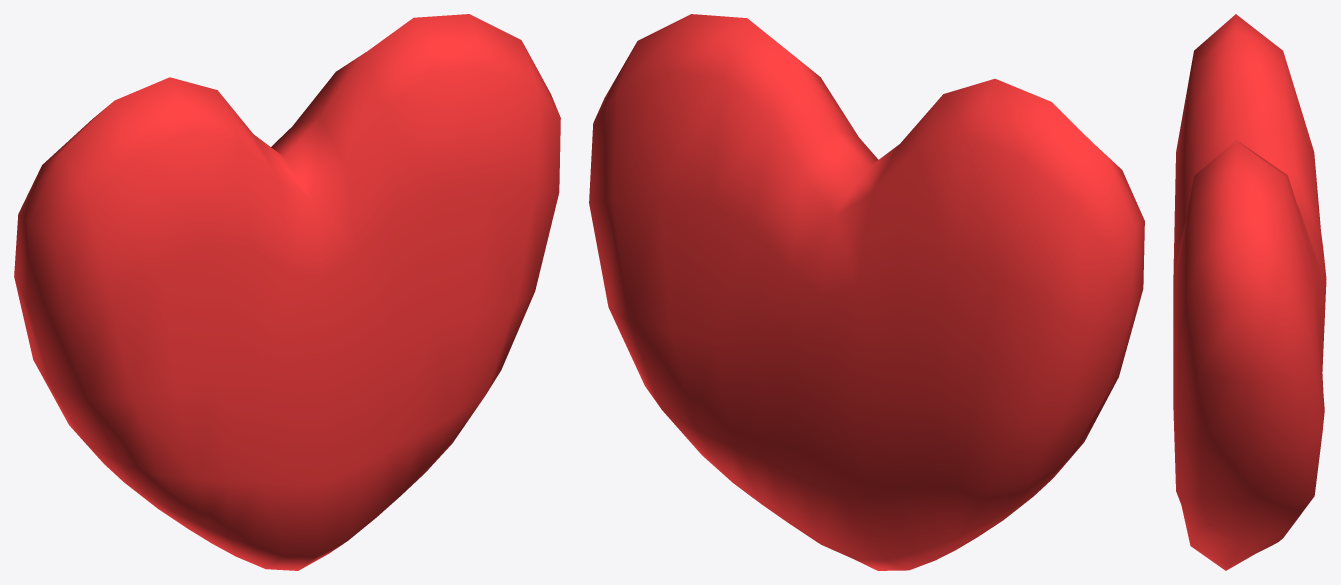
Rendered from Heart.glb.
The picture shows the model from 3 angles, left to right: view 1: azimuth 30°, elevation 25°; view 2: azimuth 150°, elevation 25°; view 3: azimuth 270°, elevation 25°; orthographic projection. The views are drawn at different scales.
Visible parts, largest first — view 1: Heart; view 2: Heart; view 3: Heart.
Part boxes in pixels (<box>): Heart: <box>14,14,560,570</box>; Heart: <box>589,14,1144,570</box>; Heart: <box>1173,14,1326,570</box>.
Bounding box in the file's own units: 2.36 × 2.24 × 0.6485.
